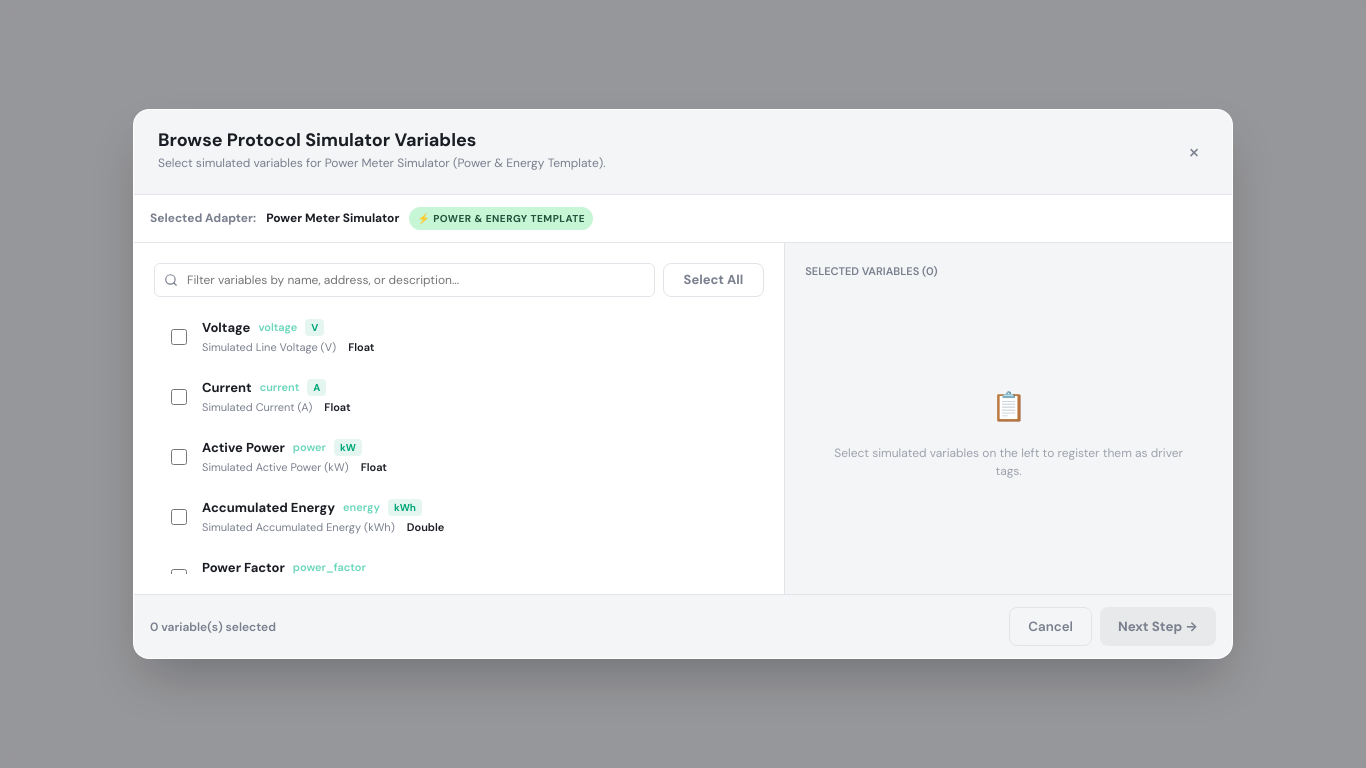
Test: SimulatorBrowserModal › supports multi-selection and proceeding to step 2 configuration
What coordinates should you click on to do the following:
click the button "Select All"
I would click on:
 (713, 280)
Its box is [662,263,764,297].
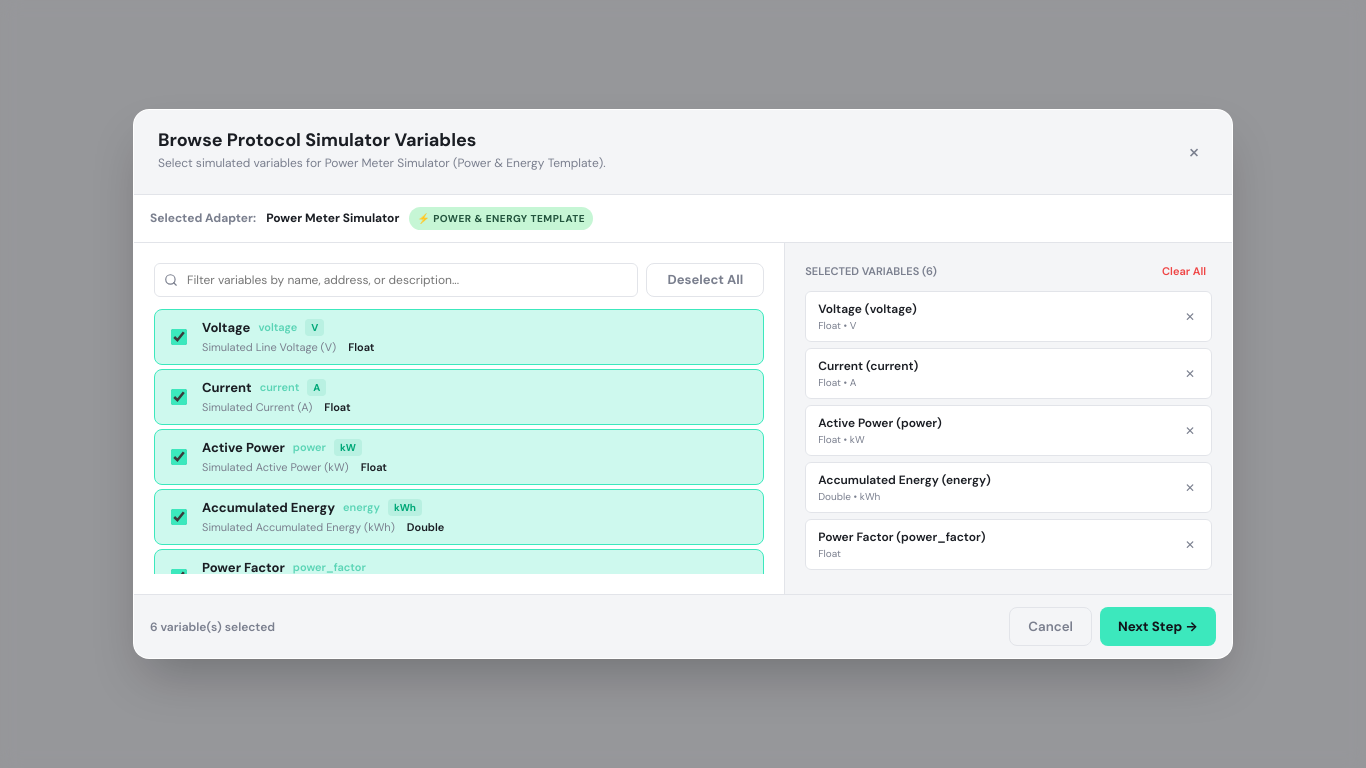
expect the text "6 variable(s) selected" is shown: met, box [150,618,275,636]
What coordinates should you click on to do the following:
click the button "Next Step →"
I would click on:
 (1158, 627)
Its box is [1100,607,1216,646].
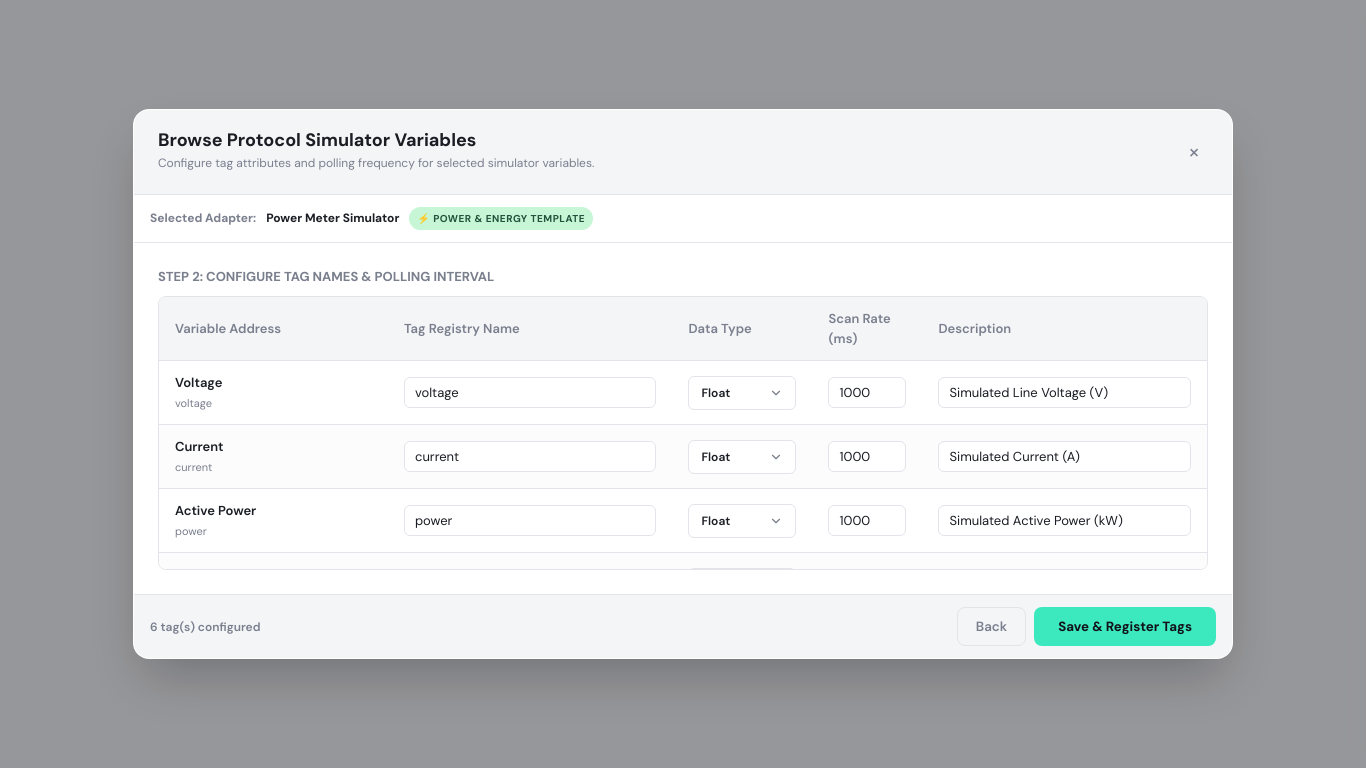
expect the text "Step 2: Configure Tag Names & Polling Interval" is shown: met, box [158,268,494,285]
